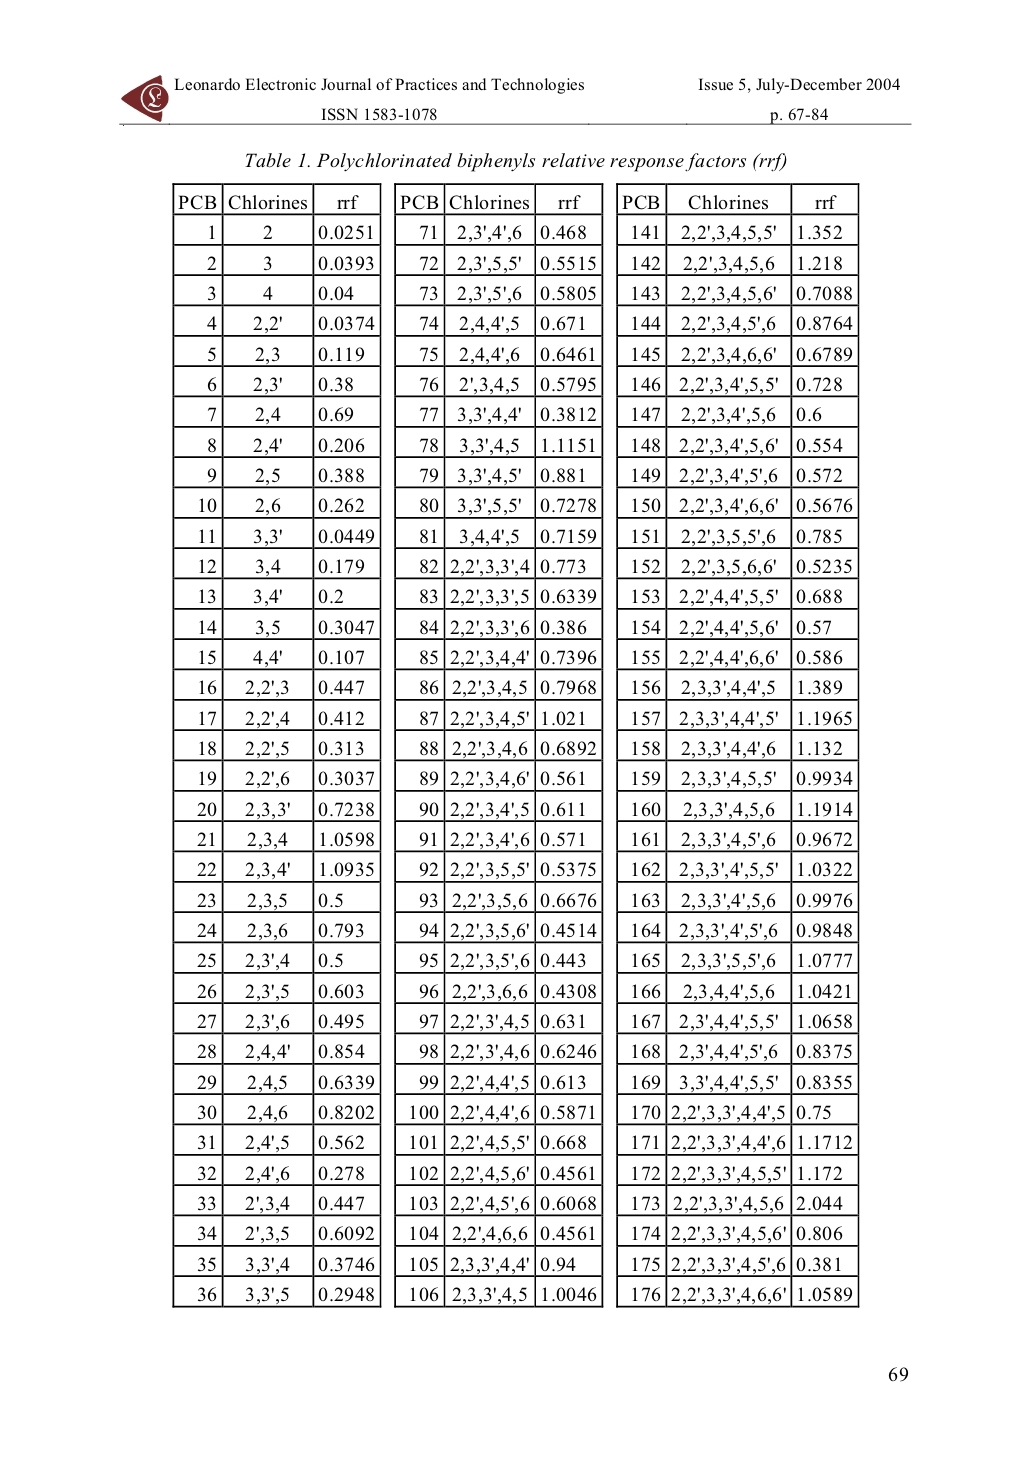Table: (172, 182, 859, 1308)
figure: (119, 75, 173, 125)
